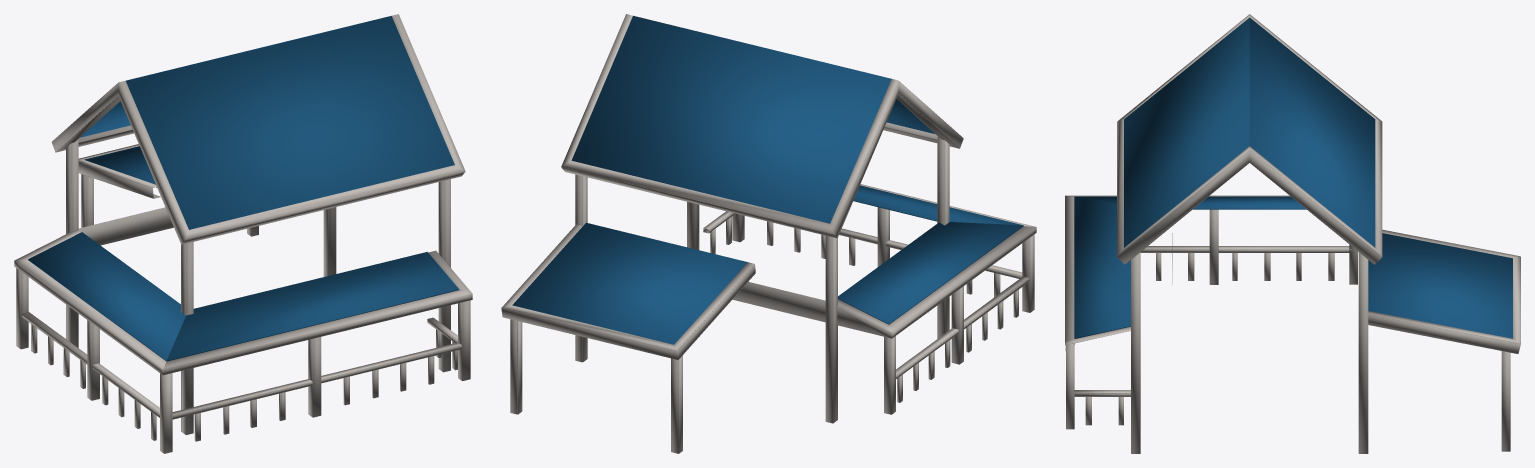
The model's file is Roof.fbx.
3 views of the same model, side by side, from view 1: azimuth 30°, elevation 25°; view 2: azimuth 150°, elevation 25°; view 3: azimuth 270°, elevation 25° (orthographic). The views are drawn at different scales.
Parts seen in each view (by area): view 1: House 1; view 2: House 1; view 3: House 1.
Boxes of the visible parts, bbox=[...] form: House 1: bbox=[14, 14, 472, 453]; House 1: bbox=[501, 14, 1036, 453]; House 1: bbox=[1065, 14, 1520, 453].
Bounding box in the file's own units: 1730 × 1562 × 2095.
Materials: 1 (1 with a texture image).
